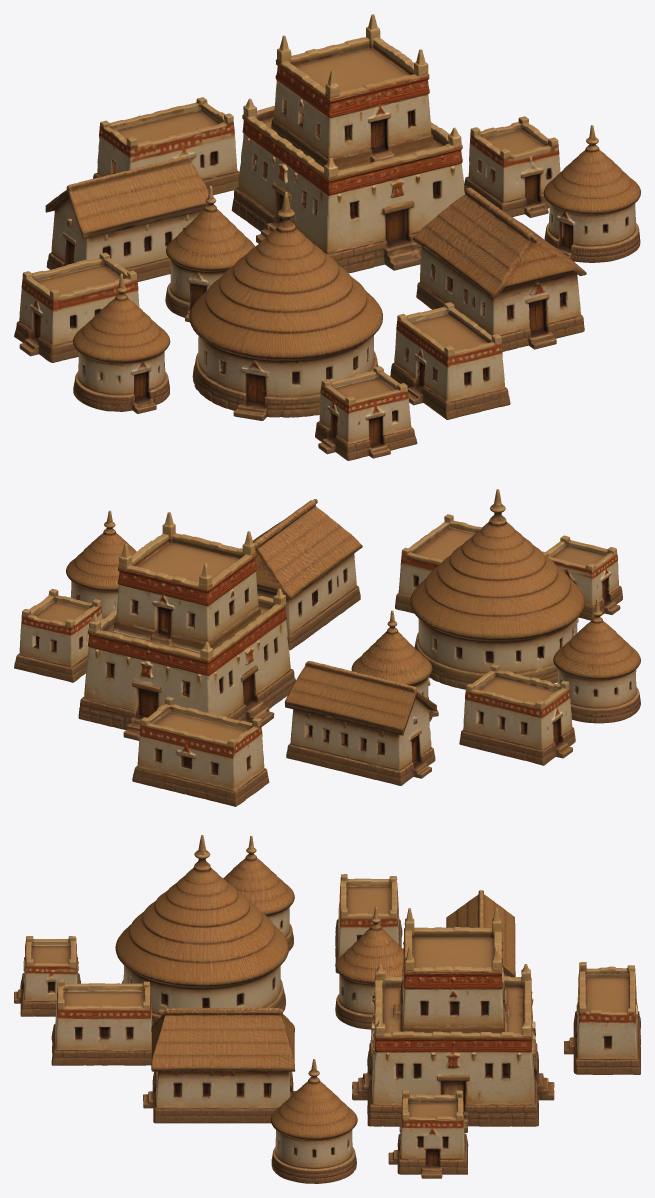
File: Medieval Village (East African).fbx
The picture shows the model from 3 angles, top to bottom: view 1: azimuth 30°, elevation 25°; view 2: azimuth 150°, elevation 25°; view 3: azimuth 270°, elevation 25°; orthographic projection. The views are drawn at different scales.
Parts seen in each view (by area): view 1: tripo_node_723c4bcc; view 2: tripo_node_723c4bcc; view 3: tripo_node_723c4bcc.
Part boxes in pixels (box(x1,y1,x2,y2)): tripo_node_723c4bcc: box(14, 14, 640, 460); tripo_node_723c4bcc: box(14, 489, 640, 806); tripo_node_723c4bcc: box(14, 835, 640, 1183).
Bounding box in the file's own units: 0.9819 × 0.2967 × 1.
